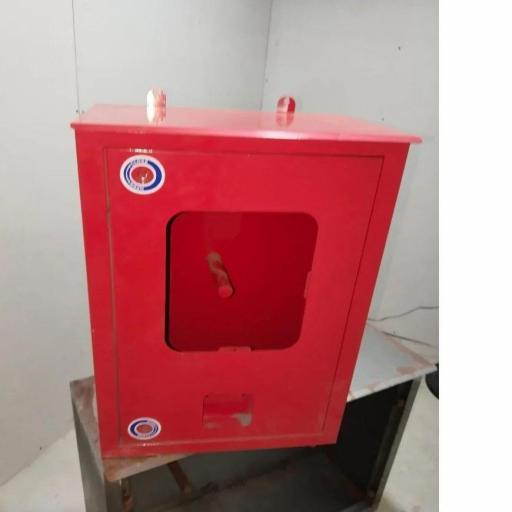fire_hose: (66, 85, 417, 455)
